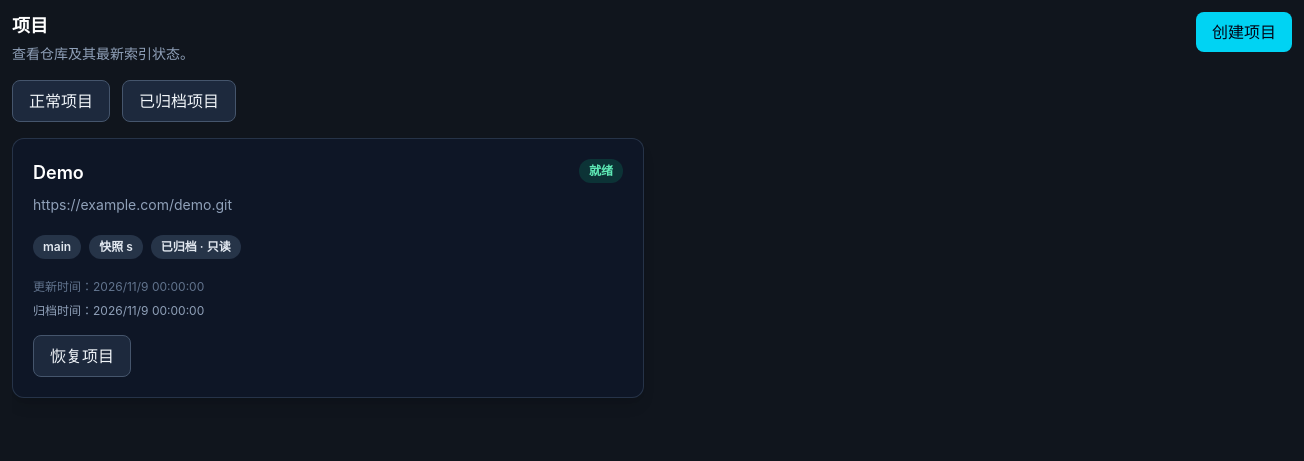
Test: shows lifecycle errors without discarding the project (archived=true)
The width and height of the screenshot is (1304, 461).
Step 1. Click the button "恢复项目" → (82, 356), box x1=33 y1=335 x2=131 y2=377
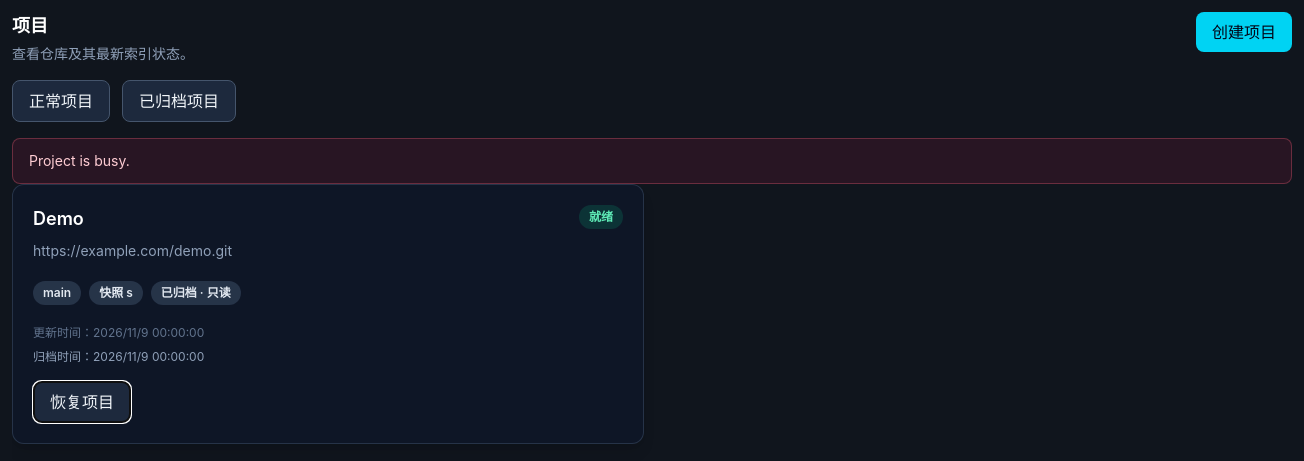
Check: the link "Demo" is shown, box x1=33 y1=205 x2=623 y2=365
Check: the message reads "Project is busy.", box x1=29 y1=152 x2=130 y2=169
